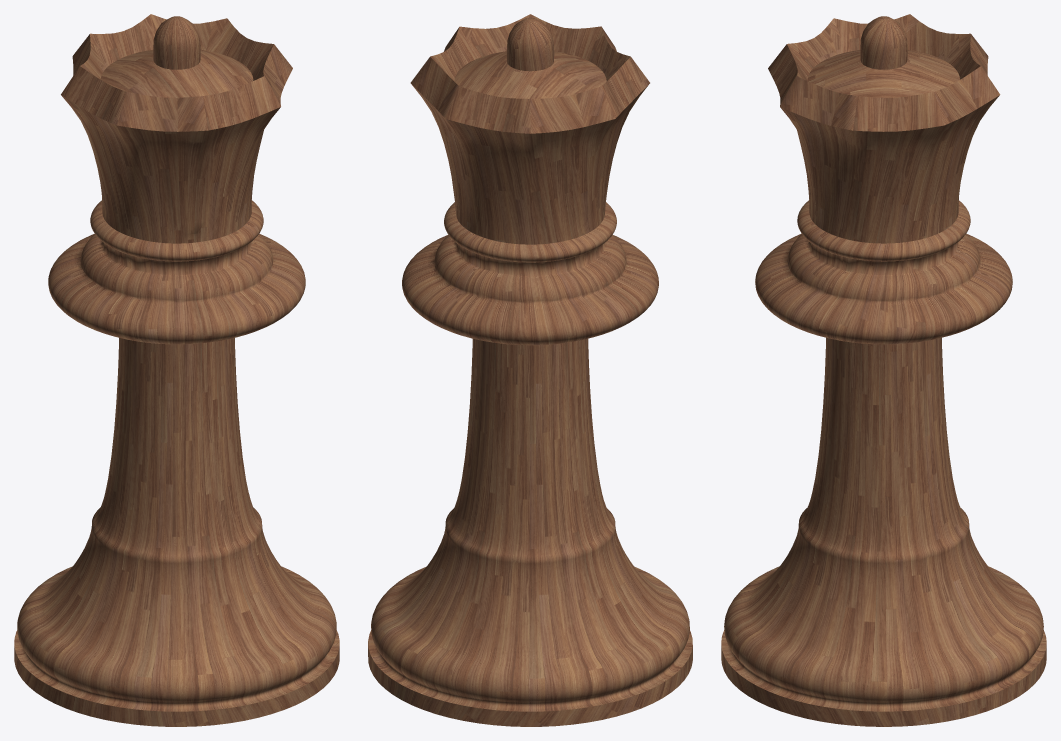
Rendered from model_queen.glb.
3 views of the same model, side by side, from view 1: azimuth 30°, elevation 25°; view 2: azimuth 150°, elevation 25°; view 3: azimuth 270°, elevation 25° (orthographic).
Visible parts, largest first — view 1: KING; view 2: KING; view 3: KING.
Boxes of the visible parts, bbox=[...] form: KING: bbox=[14, 14, 339, 726]; KING: bbox=[368, 14, 692, 726]; KING: bbox=[721, 14, 1046, 726].
Bounding box in the file's own units: 0.8754 × 1.9 × 0.8754.
Materials: 1 (1 with a texture image).
